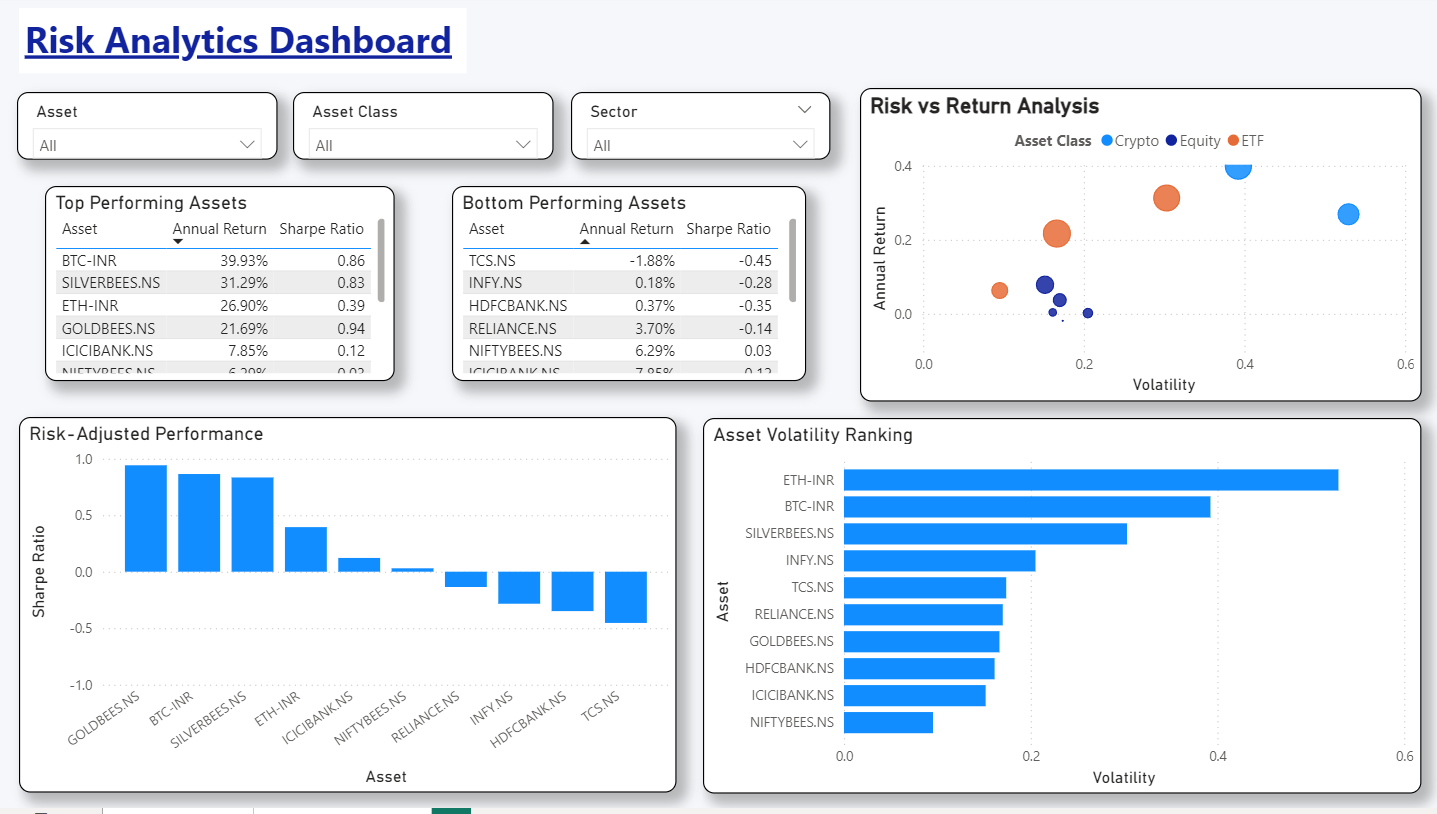

This screenshot's page, from the dashboard's own definition file:
{"tool":"powerbi","page":{"name":"Risk Analytics Dashboard","canvas":[1280,720],"ordinal":1},"visuals":[{"type":"textbox","box":[20.9,10.5,397.5,57.5],"z":0},{"type":"scatterChart","title":"Risk vs Return Analysis","fields":{"X":["Sum(risk_metrics.Volatility)"],"Y":["Sum(risk_metrics.Annual Return)"],"Series":["risk_metrics.Asset Class"],"Category":["risk_metrics.Asset"],"Size":["Sum(risk_metrics.Sharpe Ratio)"]},"box":[766.7,81.7,498.3,278.3],"z":1000},{"type":"clusteredBarChart","title":"Asset Volatility Ranking","fields":{"Category":["risk_metrics.Asset"],"Y":["Sum(risk_metrics.Volatility)"]},"box":[627.6,374,636.8,333.4],"z":2000},{"type":"clusteredColumnChart","title":"Risk-Adjusted Performance","fields":{"Category":["risk_metrics.Asset"],"Y":["Sum(risk_metrics.Sharpe Ratio)"]},"box":[21.7,373.3,583.3,333.3],"z":3000},{"type":"tableEx","title":"Top Performing Assets","fields":{"Values":["risk_metrics.Asset","Sum(risk_metrics.Annual Return)","Sum(risk_metrics.Sharpe Ratio)"]},"box":[44,168.3,309.9,172.6],"z":4000},{"type":"tableEx","title":"Bottom Performing Assets","fields":{"Values":["risk_metrics.Asset","Sum(risk_metrics.Annual Return)","Sum(risk_metrics.Sharpe Ratio)"]},"box":[404.9,168.3,313.8,172.6],"z":5000},{"type":"slicer","fields":{"Values":["asset_master.Asset"]},"box":[19.8,84.9,230.9,59.7],"z":6000},{"type":"slicer","fields":{"Values":["asset_master.Asset Class"]},"box":[264,84.9,230.9,59.7],"z":7000},{"type":"slicer","fields":{"Values":["asset_master.Sector"]},"box":[510.6,85,230,60],"z":8000}]}

Visuals, with their boxes in screenshot pixels (x1, y1, x2, y2), scaled from the page's 1280x720 canvas onto the 1437x814 screenshot:
textbox: (x1=23, y1=12, x2=470, y2=77)
"Risk vs Return Analysis" scatterChart: (x1=861, y1=92, x2=1420, y2=407)
"Asset Volatility Ranking" clusteredBarChart: (x1=705, y1=423, x2=1419, y2=800)
"Risk-Adjusted Performance" clusteredColumnChart: (x1=24, y1=422, x2=679, y2=799)
"Top Performing Assets" tableEx: (x1=49, y1=190, x2=397, y2=385)
"Bottom Performing Assets" tableEx: (x1=455, y1=190, x2=807, y2=385)
slicer - asset_master.Asset: (x1=22, y1=96, x2=281, y2=163)
slicer - asset_master.Asset Class: (x1=296, y1=96, x2=556, y2=163)
slicer - asset_master.Sector: (x1=573, y1=96, x2=831, y2=164)
